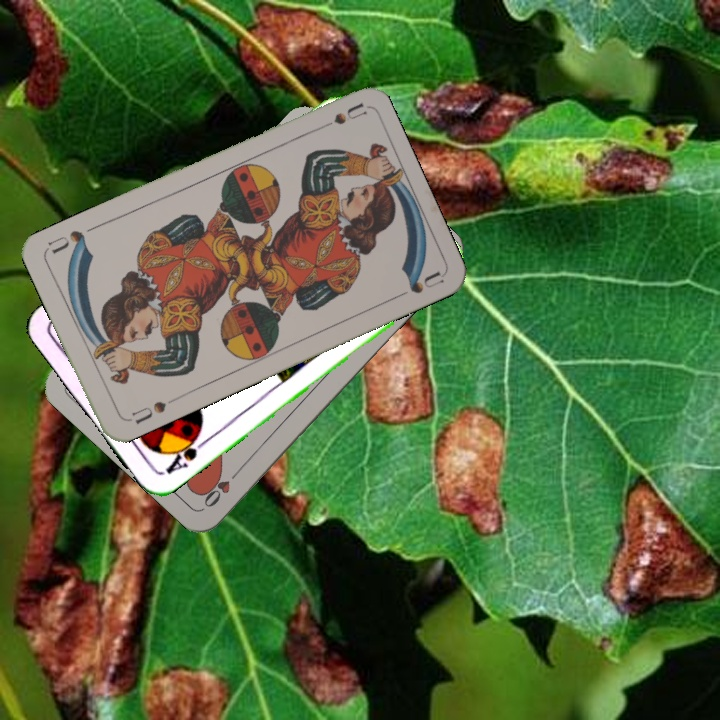HO: (199, 463, 244, 510)
SA: (161, 428, 211, 478)
SU: (310, 99, 367, 135), (123, 394, 179, 427)
